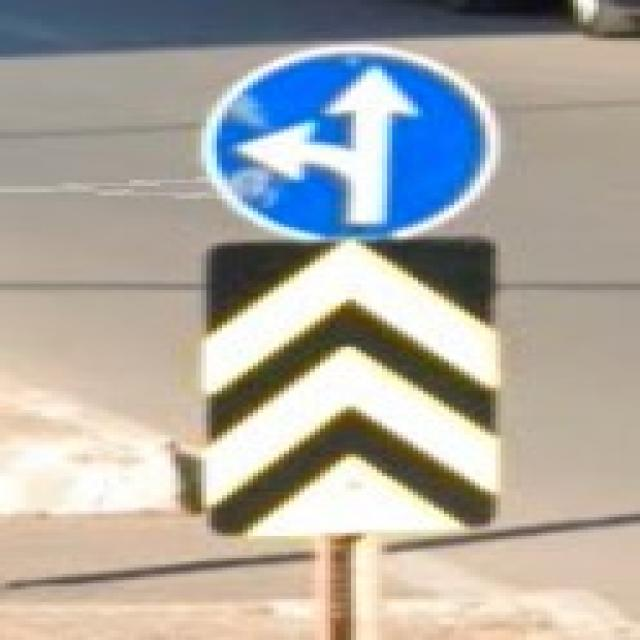Straight or Left: (205, 45, 499, 238)
